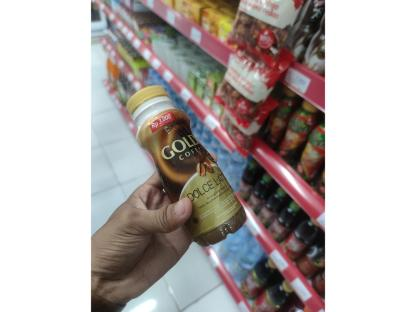Plastic Bottle: (114, 77, 252, 251)
